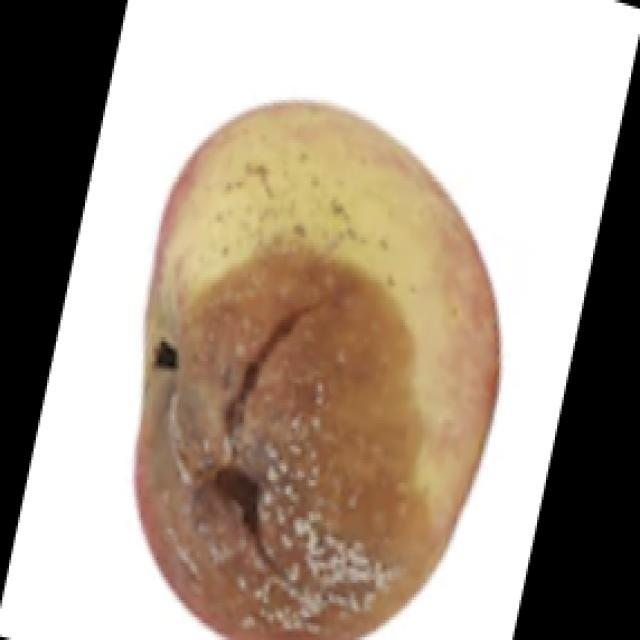Rotten: (128, 104, 495, 638)
